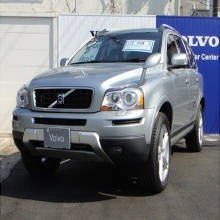no damage: (12, 25, 205, 191)
